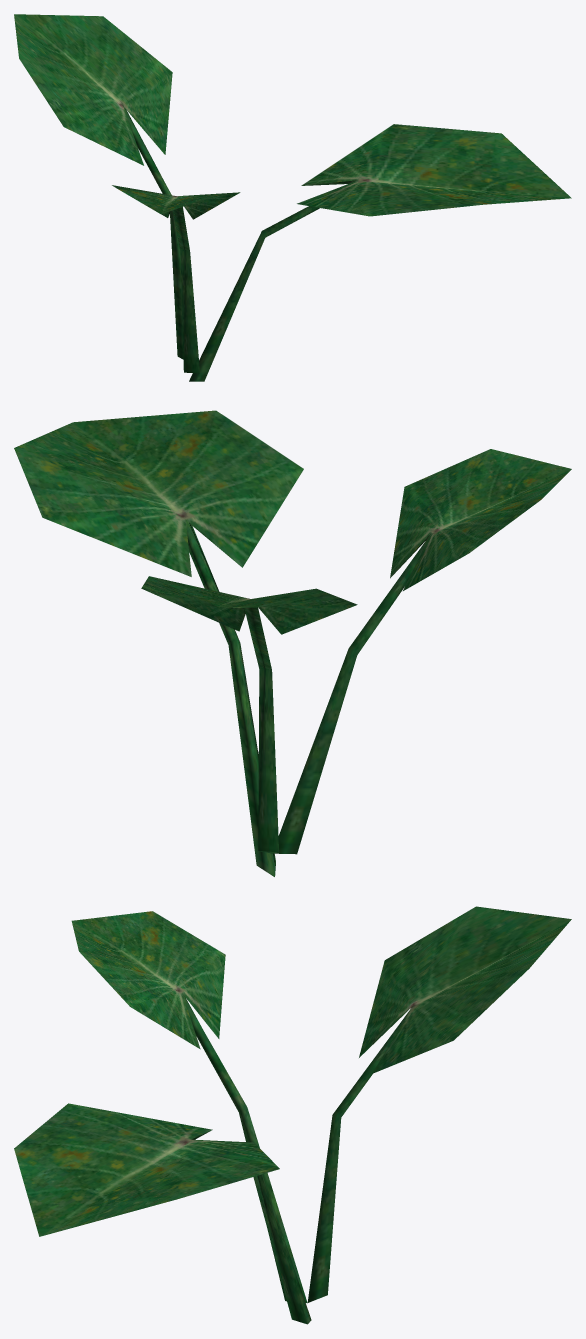
File: leaf_giantpalm_sm_l2.fbx
The picture shows the model from 3 angles, top to bottom: view 1: azimuth 30°, elevation 25°; view 2: azimuth 150°, elevation 25°; view 3: azimuth 270°, elevation 25°; orthographic projection. The views are drawn at different scales.
Parts seen in each view (by area): view 1: mesh_node; view 2: mesh_node; view 3: mesh_node.
Part boxes in pixels (x1,y1,x2,y2): mesh_node: (14,14,571,381); mesh_node: (14,410,571,876); mesh_node: (14,906,571,1324).
Bounding box in the file's own units: 3.04 × 2.17 × 3.02.
